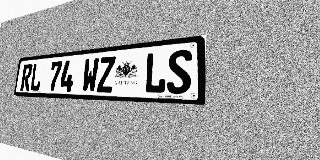4: (59, 60, 75, 92)
7: (48, 61, 62, 92)
L: (144, 51, 167, 94), (29, 63, 43, 91)
R: (20, 64, 33, 91)
S: (166, 49, 192, 94)
W: (81, 58, 99, 92)
Z: (97, 56, 116, 93)
